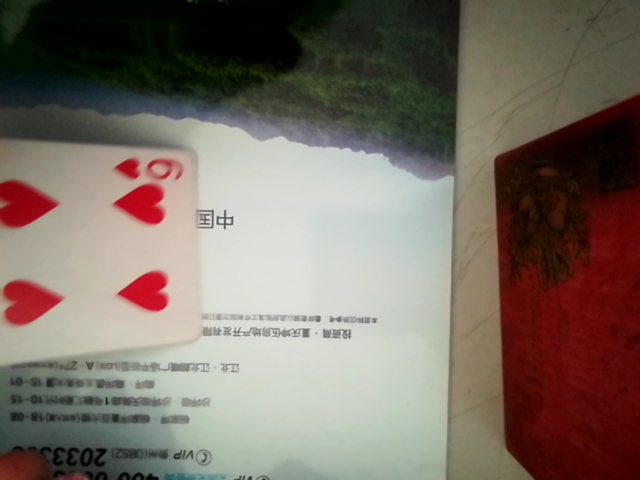hx 6: (2, 142, 205, 365)
